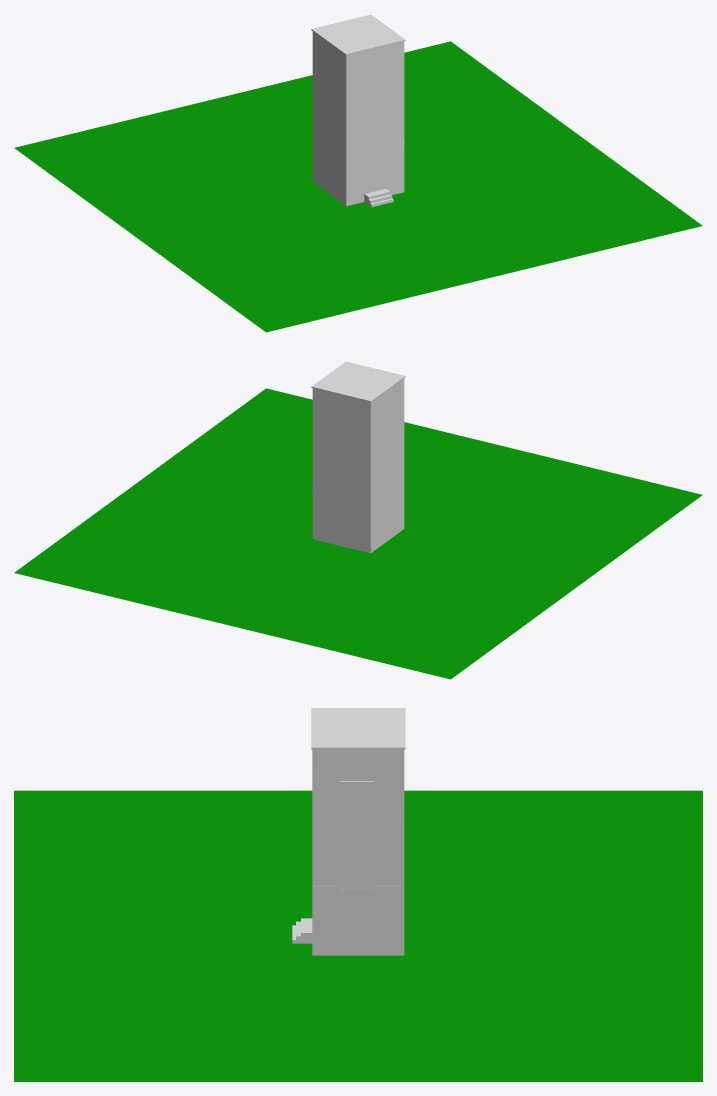
File: Tower.fbx
3 views of the same model, one above another, from view 1: azimuth 30°, elevation 25°; view 2: azimuth 150°, elevation 25°; view 3: azimuth 270°, elevation 25° (orthographic). The views are drawn at different scales.
Visible parts, largest first — view 1: Ground, Lowpolly, Building Split; view 2: Ground, Tower.001, Lowpolly, Tower.002, Building Split, Building Split.005, Building Split.003; view 3: Ground, Tower.002, Building Split, Tower.001, Lowpolly, Building Split.005, Building Split.004, Building Split.001_cell.050, Building Split.003, Building Split.001_cell.033, Building Split.001, Building Split.001_cell.021.
Part boxes in pixels (<box>): Ground: <box>14,41,702,332</box>; Lowpolly: <box>312,30,405,206</box>; Building Split: <box>311,21,404,204</box>; Ground: <box>14,388,702,679</box>; Tower.001: <box>312,388,401,553</box>; Lowpolly: <box>344,363,404,552</box>; Tower.002: <box>311,376,405,552</box>; Building Split: <box>312,361,405,549</box>; Building Split.005: <box>311,378,396,546</box>; Building Split.003: <box>315,362,385,547</box>; Ground: <box>14,790,702,1081</box>; Tower.002: <box>311,748,405,955</box>; Building Split: <box>292,708,405,955</box>; Tower.001: <box>312,749,404,947</box>; Lowpolly: <box>292,708,401,955</box>; Building Split.005: <box>292,731,404,941</box>; Building Split.004: <box>312,747,405,942</box>; Building Split.001_cell.050: <box>342,923,404,955</box>; Building Split.003: <box>293,708,405,951</box>; Building Split.001_cell.033: <box>312,901,353,930</box>; Building Split.001: <box>297,741,404,955</box>; Building Split.001_cell.021: <box>365,719,405,741</box>.
Bounding box in the file's own units: 5996 × 2001 × 5996.
